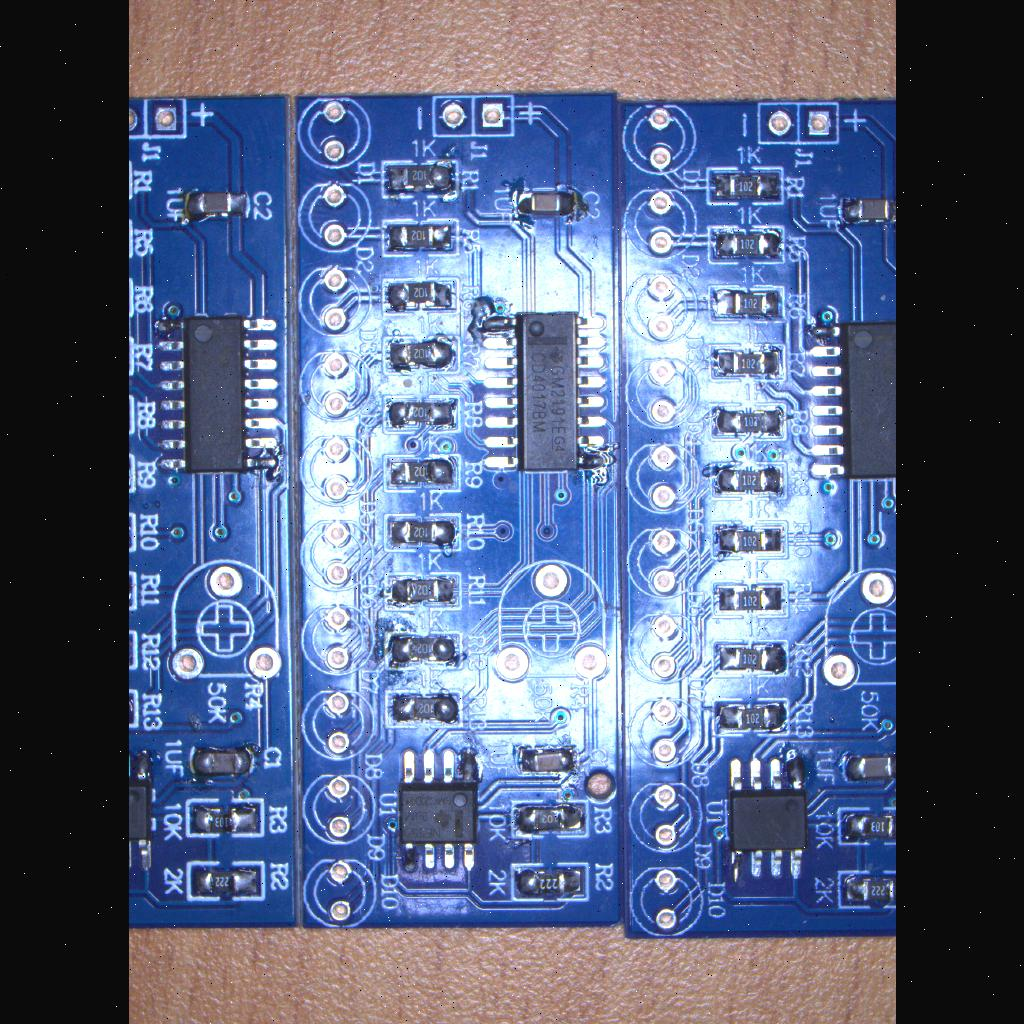OK: (476, 304, 612, 482), (150, 309, 284, 483), (804, 306, 896, 494), (719, 750, 815, 892), (394, 740, 486, 886), (706, 455, 794, 505), (506, 858, 592, 908), (182, 856, 268, 906), (708, 516, 792, 566), (182, 796, 268, 844), (506, 798, 594, 844), (709, 574, 793, 622), (702, 338, 788, 384), (708, 694, 794, 740), (377, 214, 463, 260), (382, 566, 464, 614), (705, 398, 789, 444), (381, 450, 463, 496), (382, 332, 460, 380), (703, 163, 787, 207), (377, 157, 461, 201), (707, 280, 787, 326), (380, 393, 462, 437), (382, 509, 464, 553), (382, 629, 464, 673), (706, 222, 784, 268), (707, 638, 791, 680), (382, 688, 466, 730), (379, 274, 461, 316), (174, 185, 252, 227), (511, 739, 585, 783), (510, 180, 582, 224), (836, 866, 896, 916), (184, 742, 256, 782), (836, 188, 896, 236), (834, 806, 896, 848), (840, 748, 896, 788)
